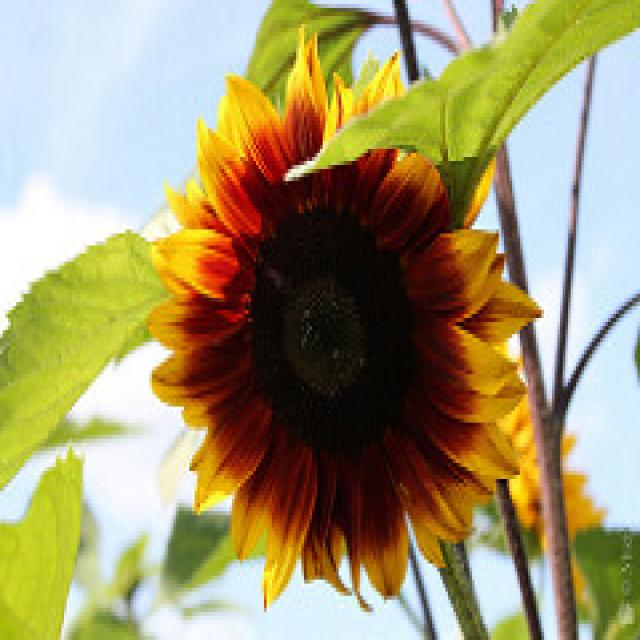sunflower: (146, 36, 540, 615)
